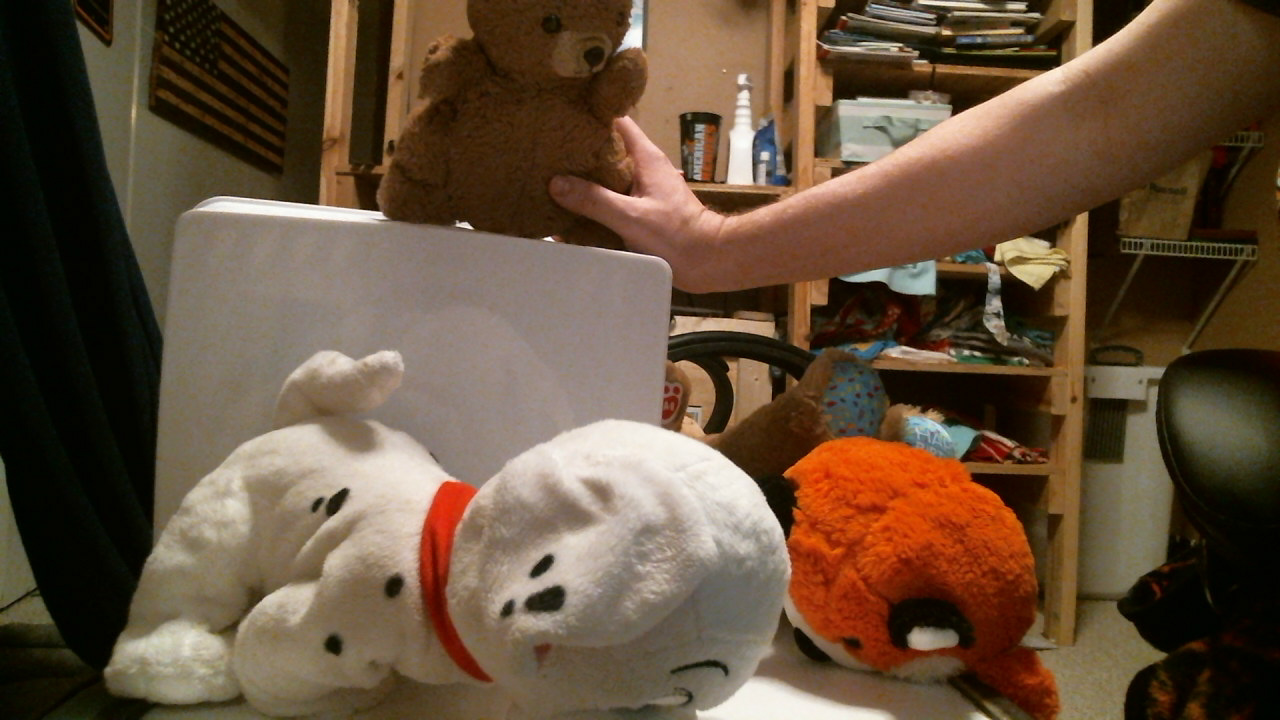Little_Mister_Bear: (526, 17, 634, 93)
